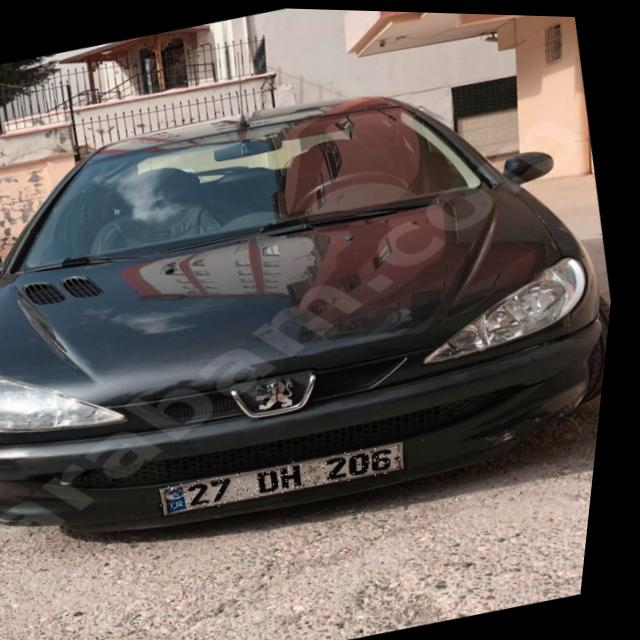license_plate: (166, 431, 418, 521)
